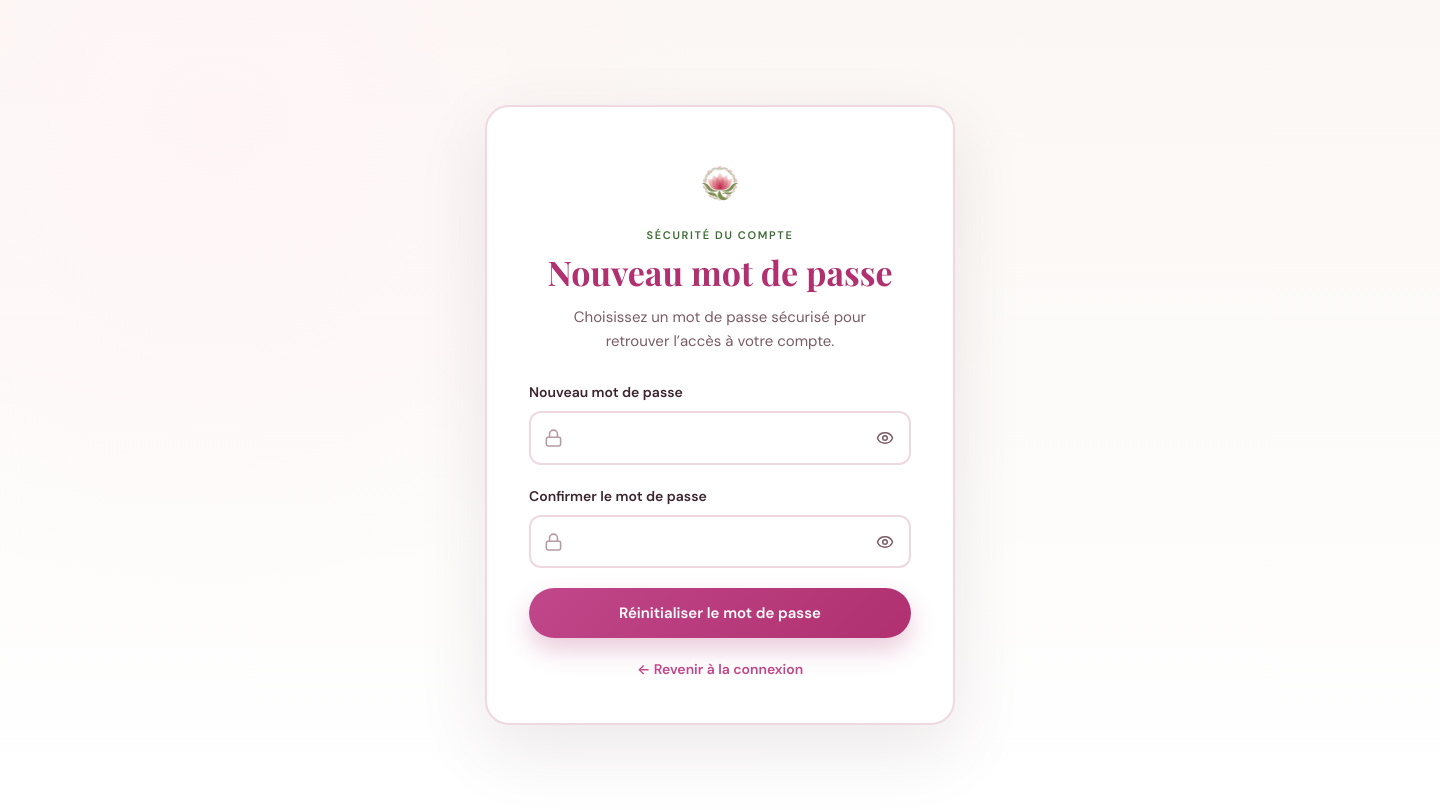
it: Flora et récupération de compte › refuse une réinitialisation invalide (?token=t)
The image size is (1440, 810).
Type "weak" into the password field labelled "Nouveau mot de passe". click: (720, 438)
box: [529,411,911,464]
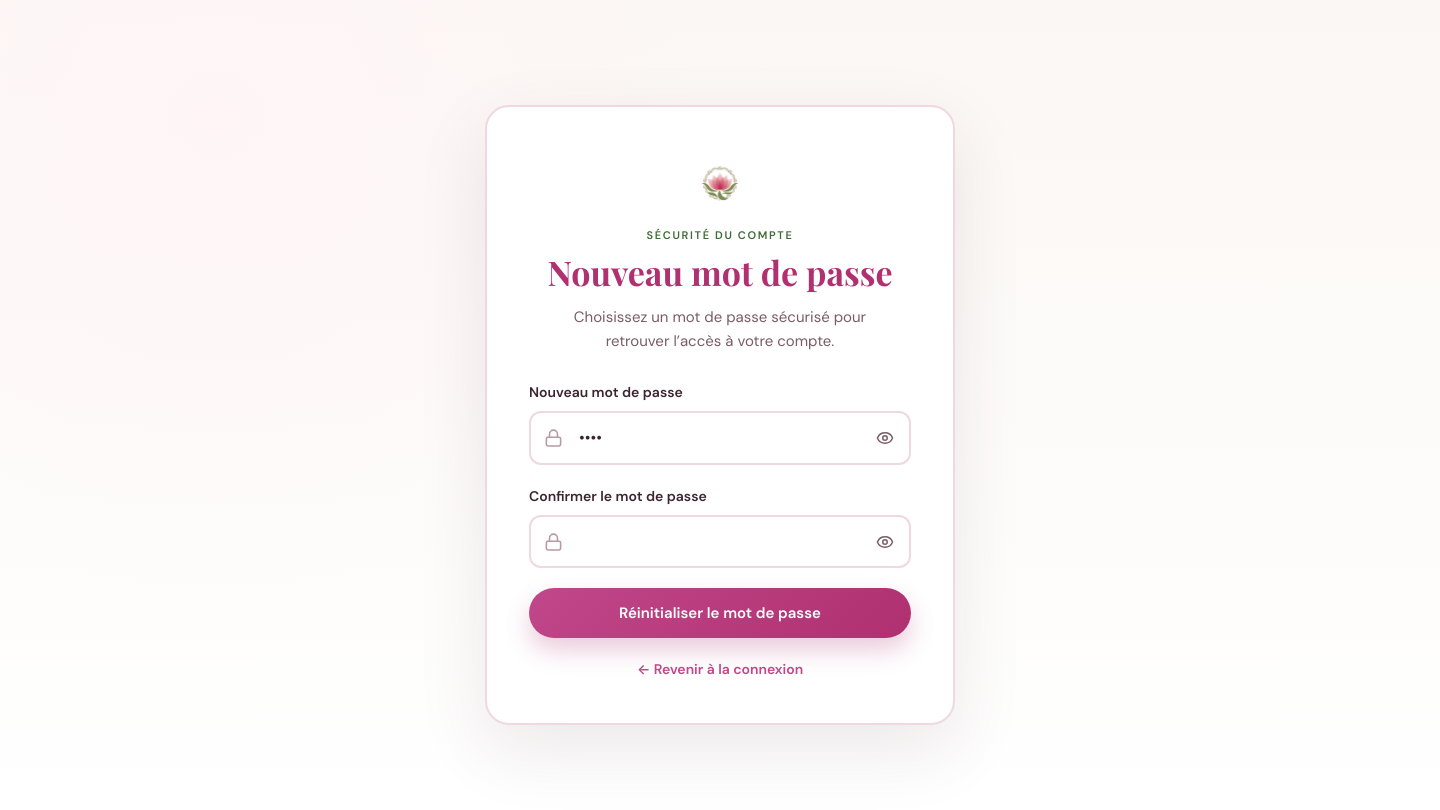
Type "weak" into the password field labelled "Confirmer le mot de passe". click: (720, 542)
box: [529,515,911,568]
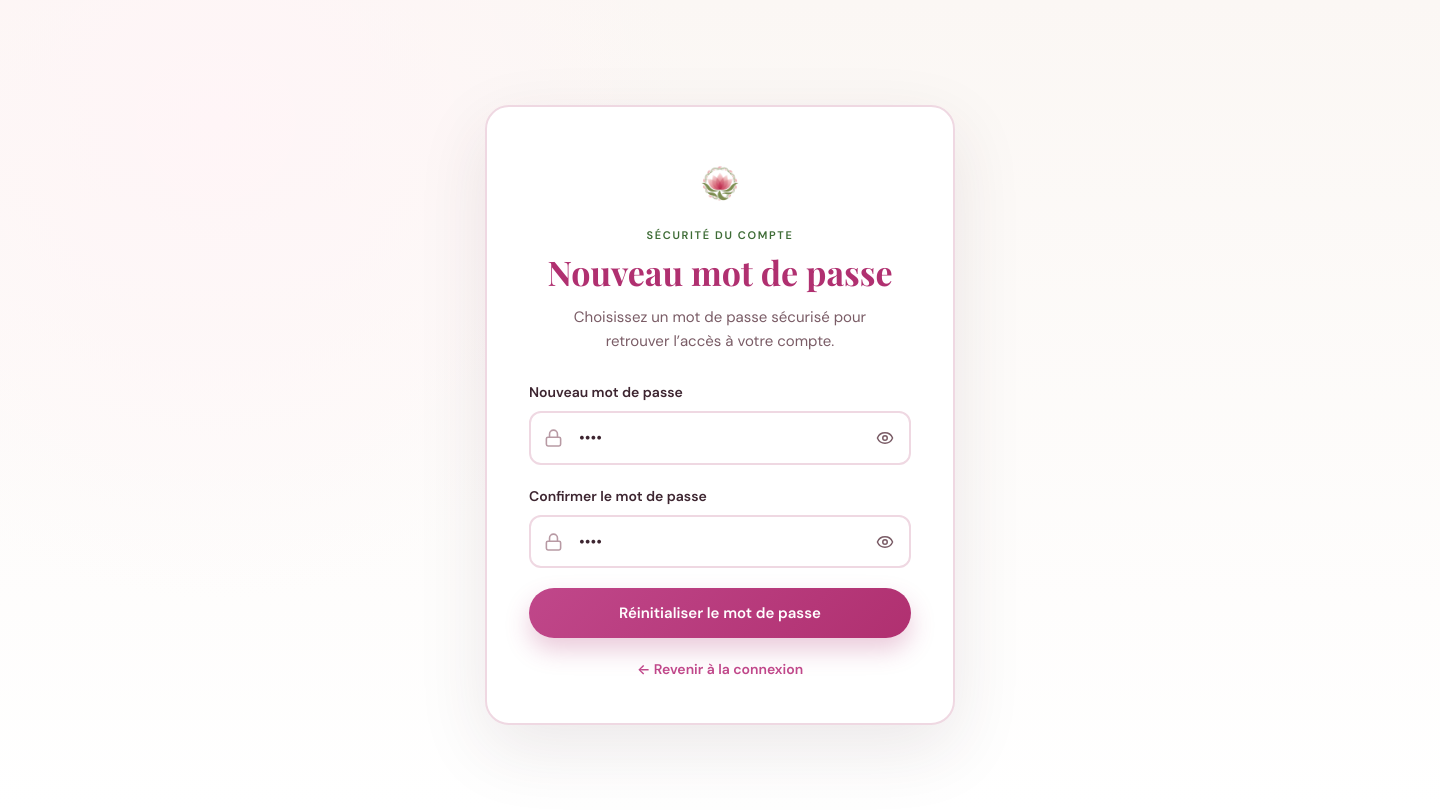
Click the button "Réinitialiser le mot de passe". click: (720, 614)
box: [529,588,911,638]
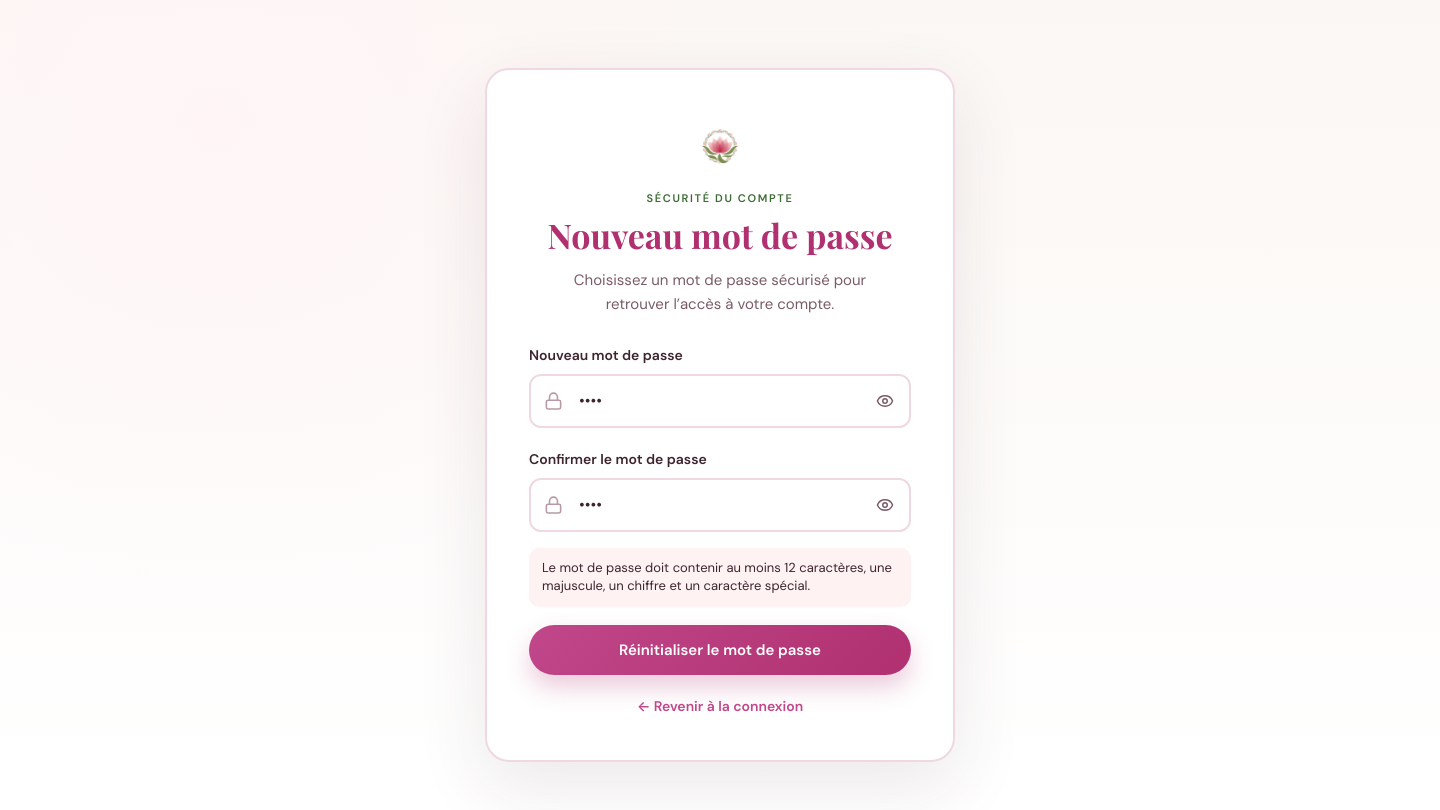
Check: the text "Le mot de passe doit contenir au moins 12 caractères" is shown, box [542,559,892,594]
